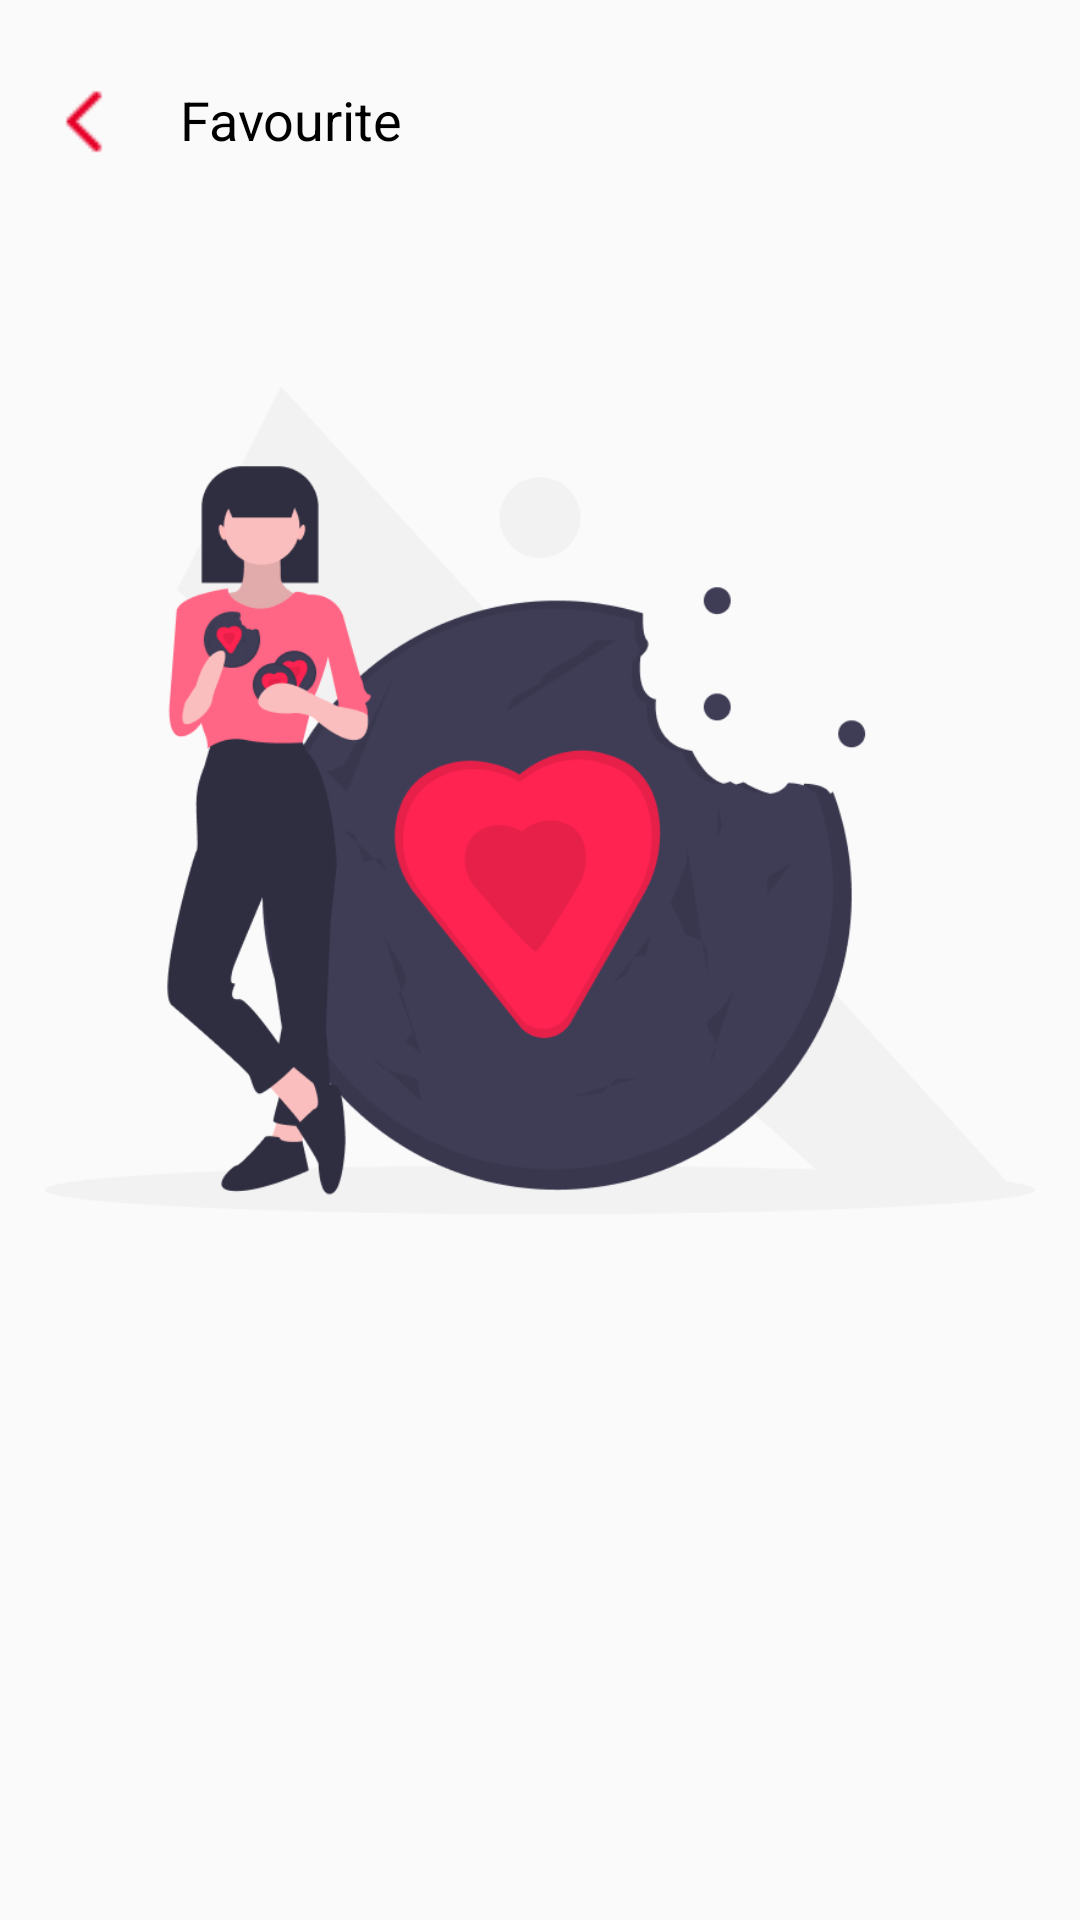

Point at icon controls on the screen. Image size 1080*1920, points as [x,y].
back: [84,121]
